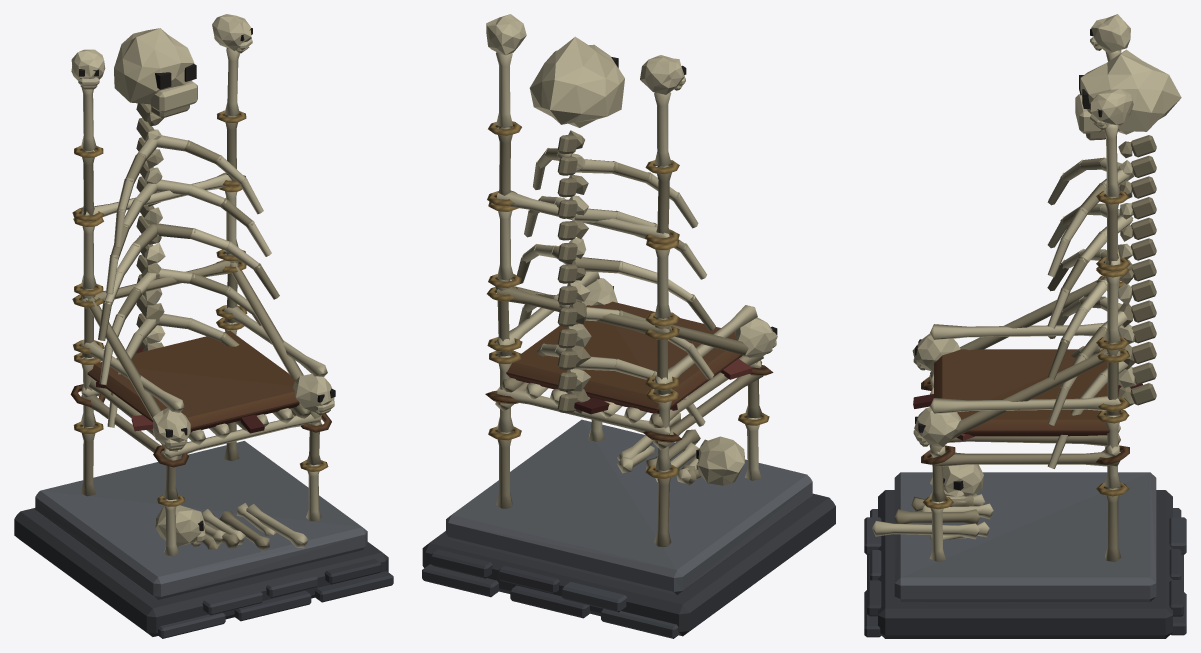
Rendered from bone-throne-fallback.glb.
The picture shows the model from 3 angles, left to right: view 1: azimuth 30°, elevation 25°; view 2: azimuth 150°, elevation 25°; view 3: azimuth 270°, elevation 25°; orthographic projection. The views are drawn at different scales.
Parts seen in each view (by area): view 1: dun_bone_throne; view 2: dun_bone_throne; view 3: dun_bone_throne.
Part boxes in pixels (x1,y1,x2,y2): dun_bone_throne: [14, 14, 393, 638]; dun_bone_throne: [422, 14, 835, 638]; dun_bone_throne: [864, 14, 1186, 638].
Bounding box in the file's own units: 0.88 × 1.73 × 0.9601.
